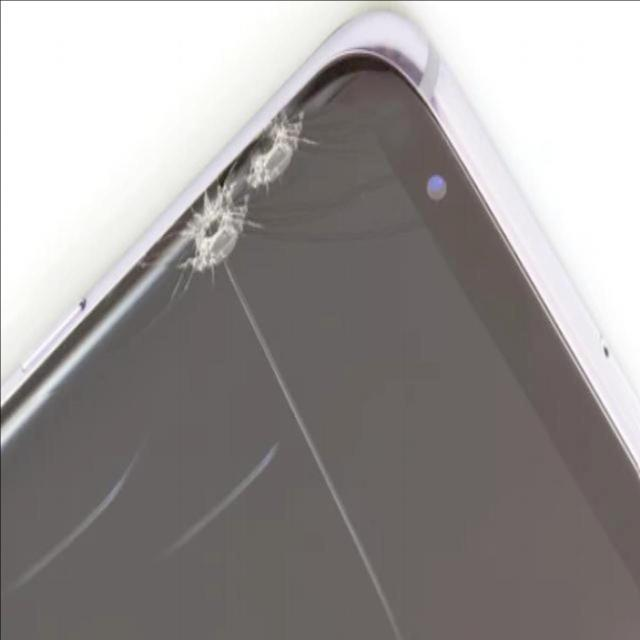Crack: (132, 79, 501, 287), (107, 395, 372, 565)
